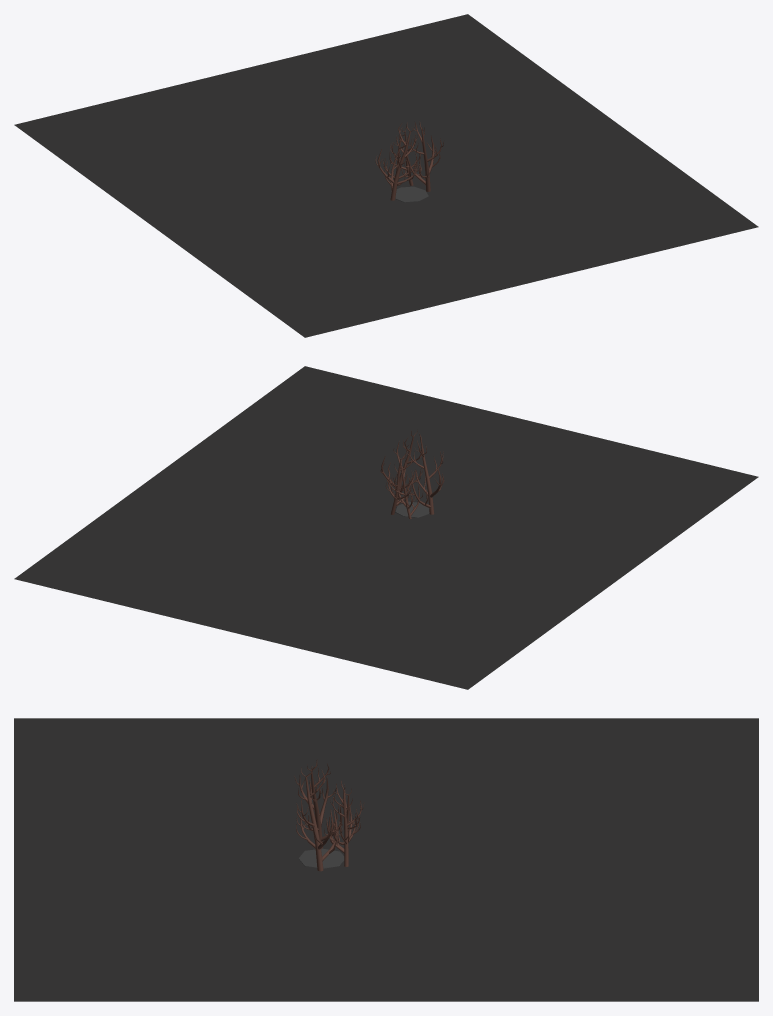
The picture shows the model from 3 angles, top to bottom: view 1: azimuth 30°, elevation 25°; view 2: azimuth 150°, elevation 25°; view 3: azimuth 270°, elevation 25°; orthographic projection. The views are drawn at different scales.
Visible parts, largest first — view 1: BG_slender; view 2: BG_slender; view 3: BG_slender.
Part boxes in pixels (left/top/right/bottom): BG_slender: left=14, top=14, right=758, bottom=337; BG_slender: left=14, top=366, right=758, bottom=689; BG_slender: left=14, top=718, right=758, bottom=1001.
Size of the model in its own units: 6336 by 1120 by 7033.
